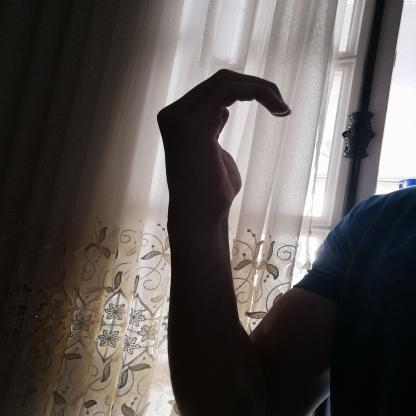HAA: (146, 56, 304, 215)
